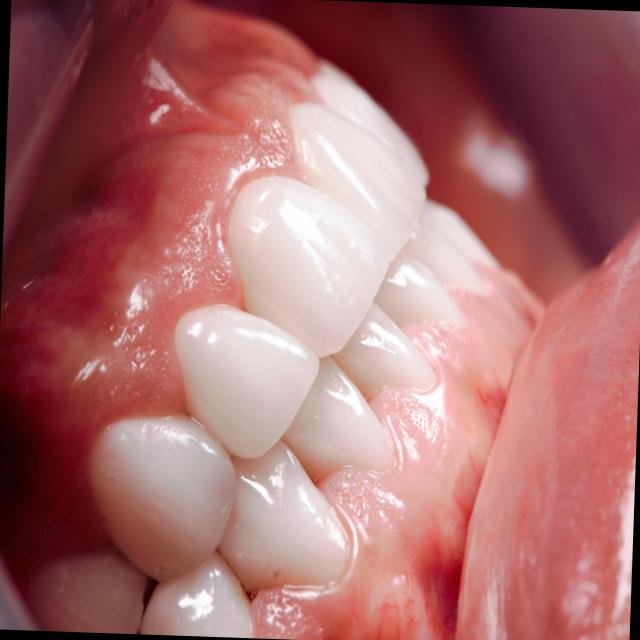Tooth: (227, 175, 389, 359), (89, 413, 236, 581), (172, 304, 319, 458), (288, 101, 426, 263), (217, 439, 349, 593), (281, 355, 395, 483), (330, 300, 435, 400), (138, 551, 252, 638), (373, 251, 467, 328), (401, 220, 490, 293)
